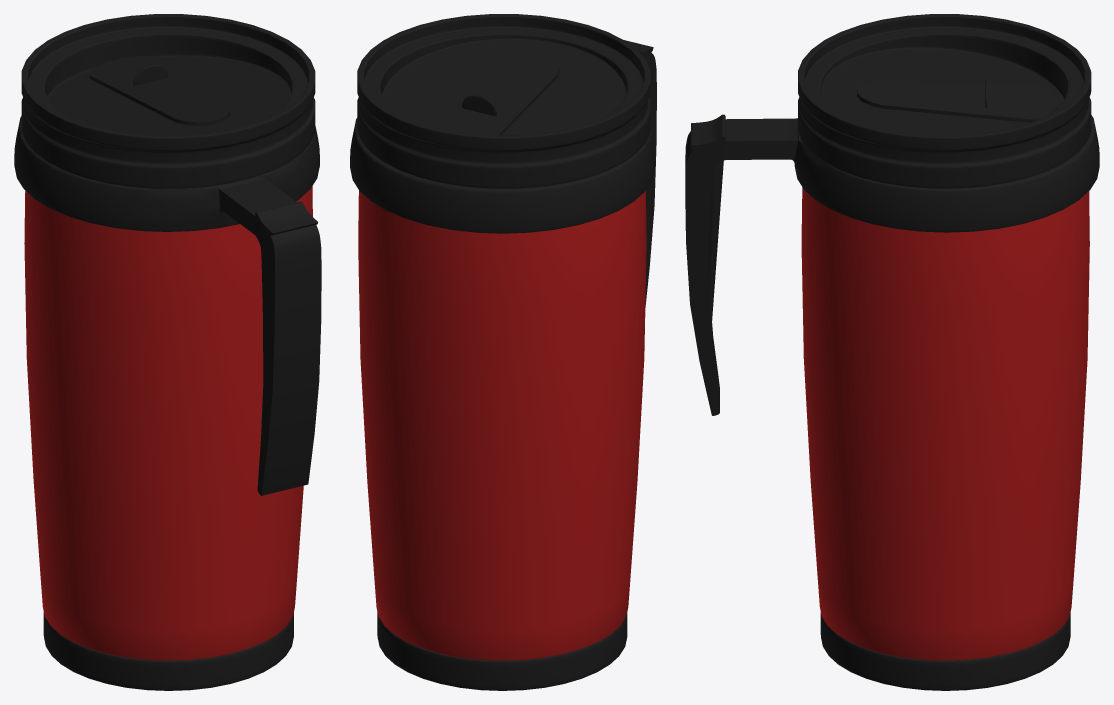
The model's file is termos.obj.
The picture shows the model from 3 angles, left to right: view 1: azimuth 30°, elevation 25°; view 2: azimuth 150°, elevation 25°; view 3: azimuth 270°, elevation 25°; orthographic projection.
Parts seen in each view (by area): view 1: Cylinder001, Cylinder005, Cylinder002, Cylinder003, Cylinder006; view 2: Cylinder001, Cylinder005, Cylinder002, Cylinder003, Cylinder006; view 3: Cylinder001, Cylinder005, Cylinder002, Cylinder003, Cylinder006.
Boxes of the visible parts, x1,y1,x2,y2 form: Cylinder001: (24,186,312,660); Cylinder005: (21,14,315,188); Cylinder002: (14,116,321,495); Cylinder003: (43,612,293,690); Cylinder006: (89,56,230,125); Cylinder001: (358,190,646,660); Cylinder005: (357,14,650,188); Cylinder002: (350,40,656,307); Cylinder003: (377,612,627,690); Cylinder006: (420,55,559,135); Cylinder001: (801,187,1089,660); Cylinder005: (798,14,1091,188); Cylinder002: (685,114,1099,415); Cylinder003: (820,612,1070,690); Cylinder006: (857,79,1057,122).
Size of the model in its own units: 66.11 by 135 by 89.82.
